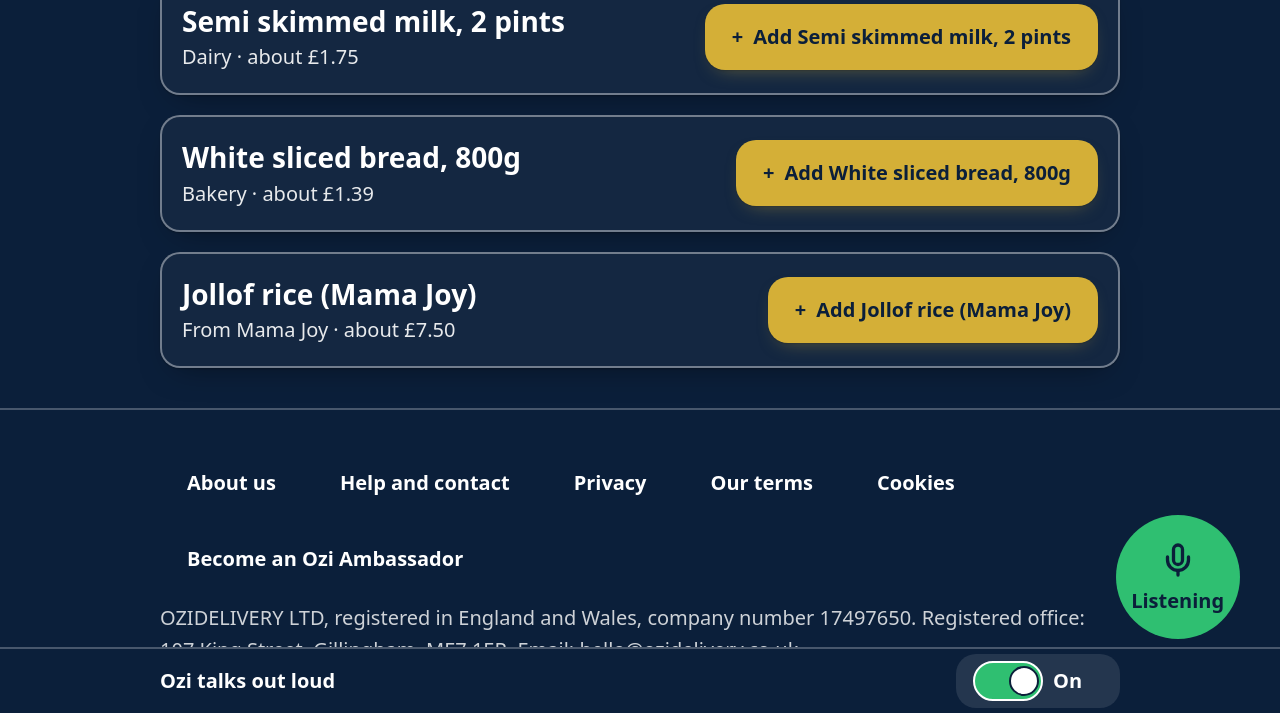
Test case: a restaurant basket › is refused below £10, on the screen and by Ozi
(page scrolled)
Click the button "+ Add Jollof rice (Mama Joy)" at [933, 310], box [768,277,1098,343]
(page scrolled)
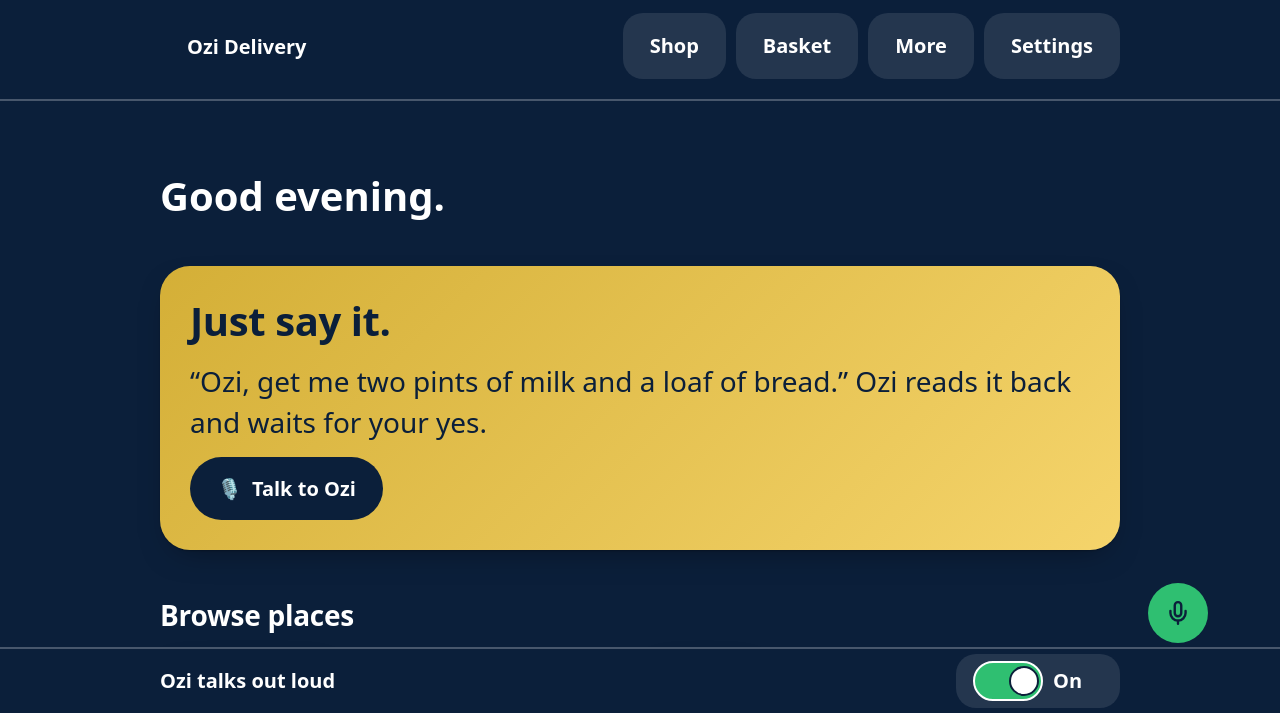
Click the link "Basket" at [797, 46], box [736,13,858,79]
(page scrolled)
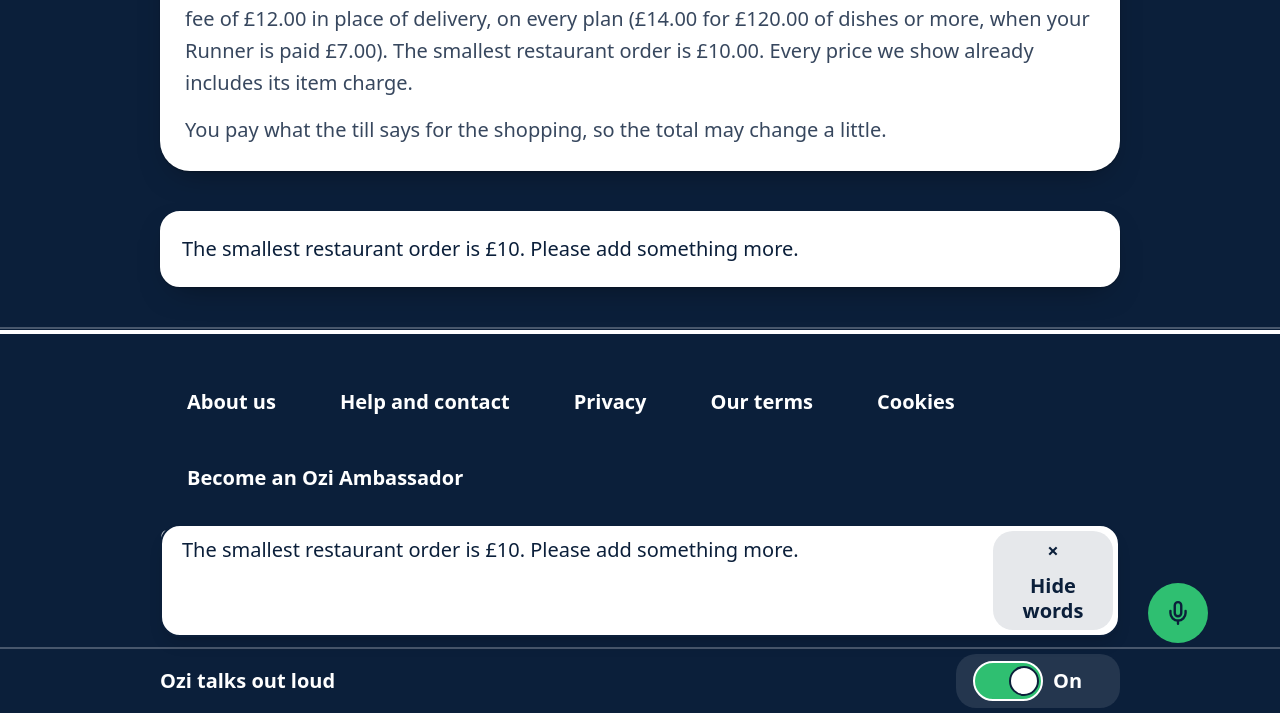
Expected: the message "The smallest restaurant order is £10. Please add something more." below "£7.00" is shown, [182,235,799,262]
